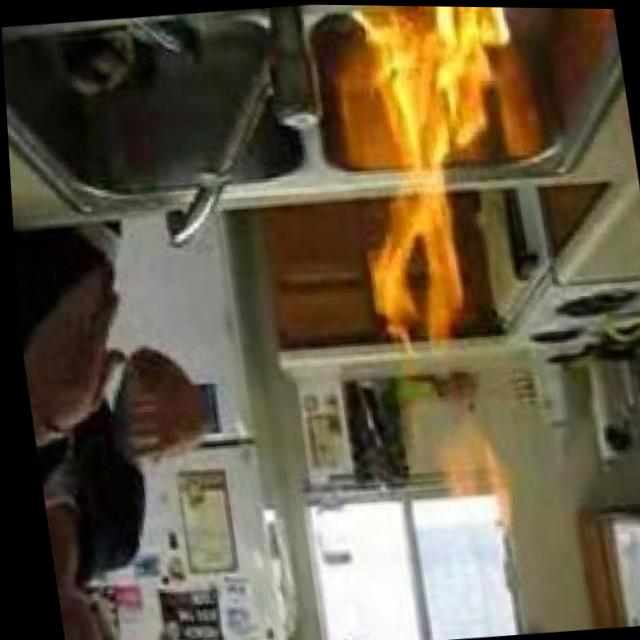Fire: (332, 4, 544, 359), (406, 412, 523, 552)
